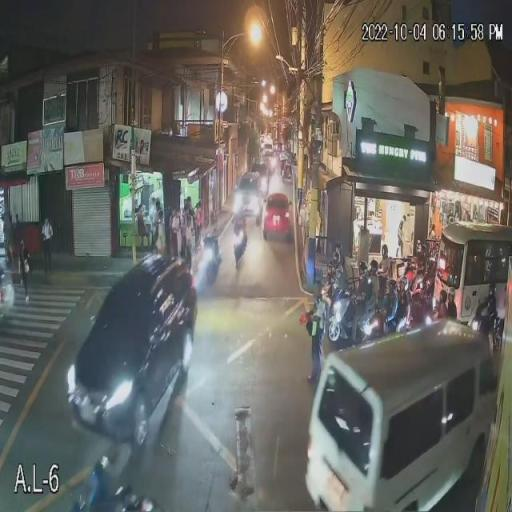helmet: (375, 243, 391, 258), (444, 287, 456, 304), (437, 288, 449, 304), (329, 252, 342, 265), (356, 264, 368, 276), (366, 262, 378, 273), (416, 245, 428, 256), (390, 273, 402, 283), (210, 213, 216, 224)
motorcycle: (353, 293, 400, 344), (318, 285, 358, 343), (480, 305, 503, 362), (392, 297, 427, 333), (198, 242, 220, 286), (232, 231, 248, 270)
rider: (360, 265, 382, 312), (412, 250, 432, 294), (480, 278, 498, 325), (351, 262, 369, 308), (324, 257, 344, 297), (388, 275, 408, 313), (202, 219, 219, 256), (375, 251, 391, 289), (233, 212, 248, 246), (445, 285, 459, 321), (436, 288, 448, 320)
